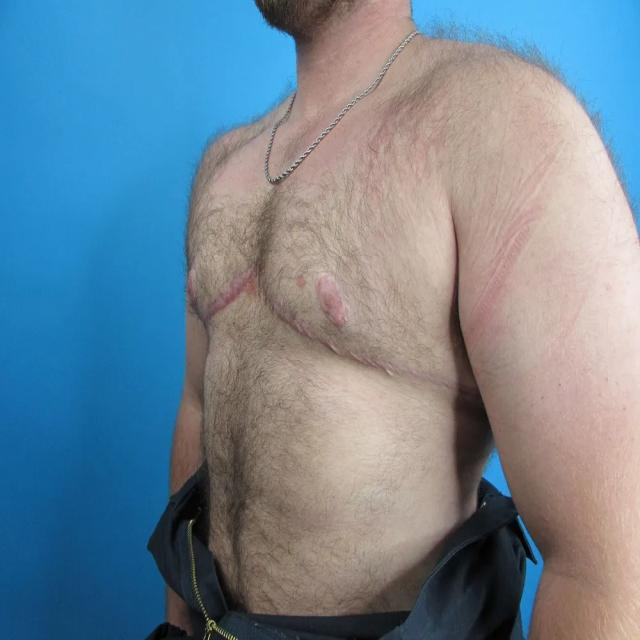Seno herido: (259, 227, 455, 391), (184, 214, 252, 335)
